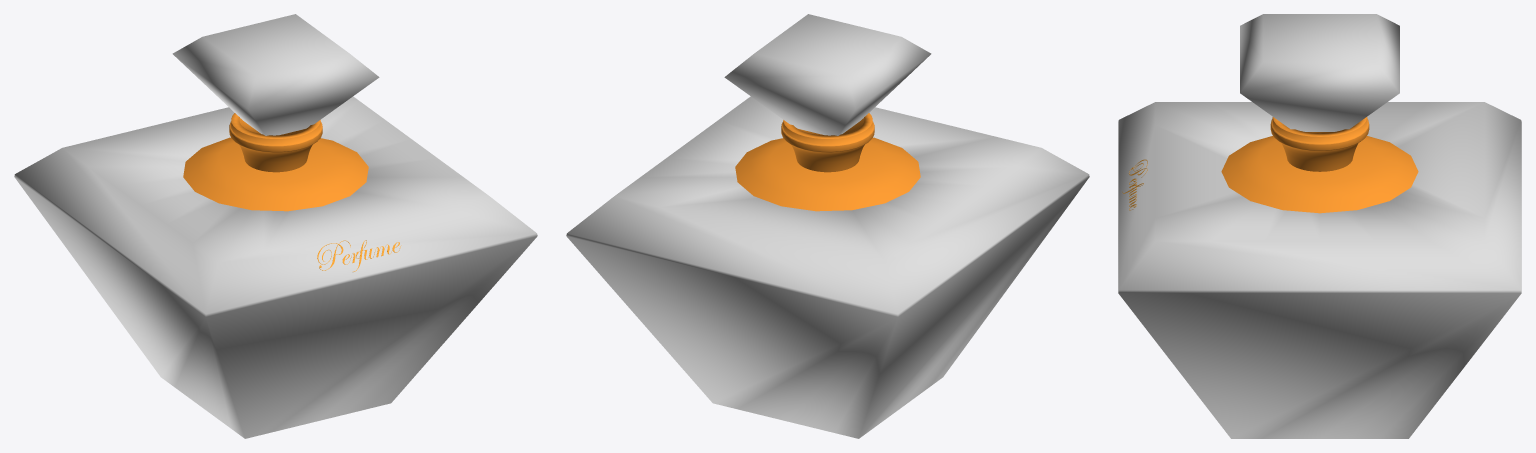
File: perfume_bottle.glb
3 views of the same model, side by side, from view 1: azimuth 30°, elevation 25°; view 2: azimuth 150°, elevation 25°; view 3: azimuth 270°, elevation 25° (orthographic). The views are drawn at different scales.
Visible parts, largest first — view 1: Object_4, Object_7, Object_13; view 2: Object_4, Object_7; view 3: Object_4, Object_7.
Boxes of the visible parts, x1,y1,x2,y2 form: Object_4: [14, 14, 537, 438]; Object_7: [183, 113, 368, 211]; Object_13: [317, 240, 401, 271]; Object_4: [566, 14, 1089, 438]; Object_7: [735, 113, 920, 211]; Object_4: [1118, 14, 1521, 438]; Object_7: [1221, 117, 1418, 213].
Bounding box in the file's own units: 3.99 × 3.96 × 3.99.
